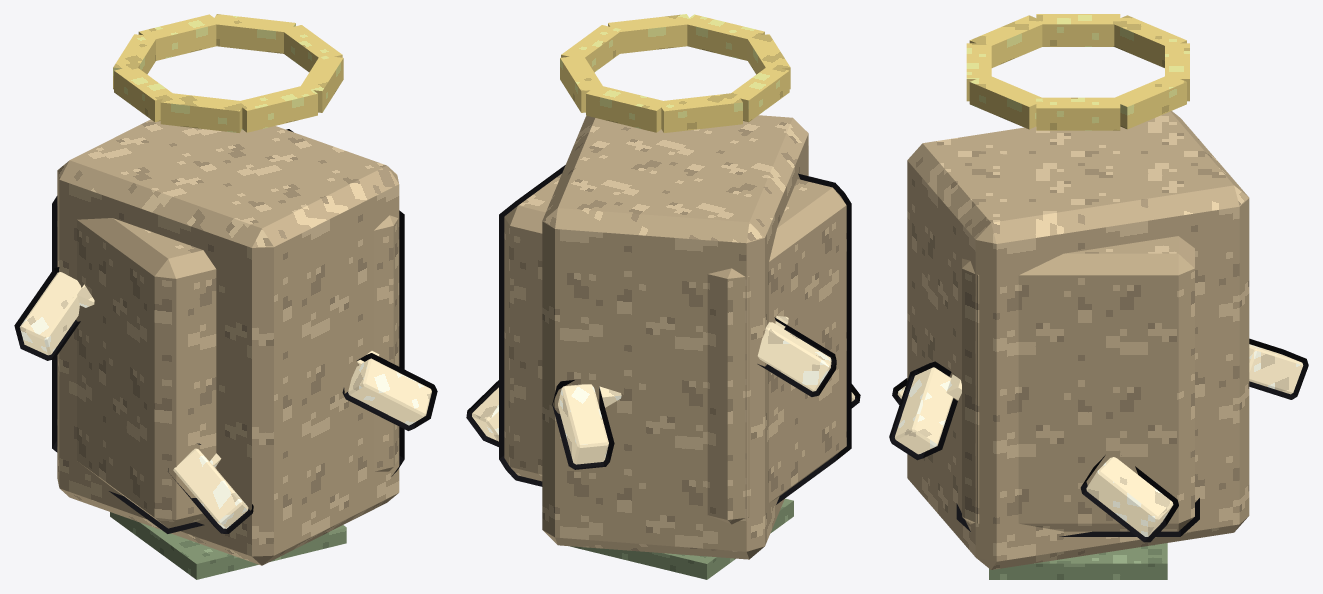
File: egg_prehistoric_01.glb
The picture shows the model from 3 angles, left to right: view 1: azimuth 30°, elevation 25°; view 2: azimuth 150°, elevation 25°; view 3: azimuth 270°, elevation 25°; orthographic projection. The views are drawn at different scales.
Visible parts, largest first — view 1: model; view 2: model; view 3: model.
Part boxes in pixels (box(x1,y1,x2,y2)): model: box(14, 14, 437, 579); model: box(466, 14, 860, 579); model: box(889, 14, 1308, 579).
Bounding box in the file's own units: 0.9409 × 1.18 × 0.9308.
5 materials, 4 textured.
